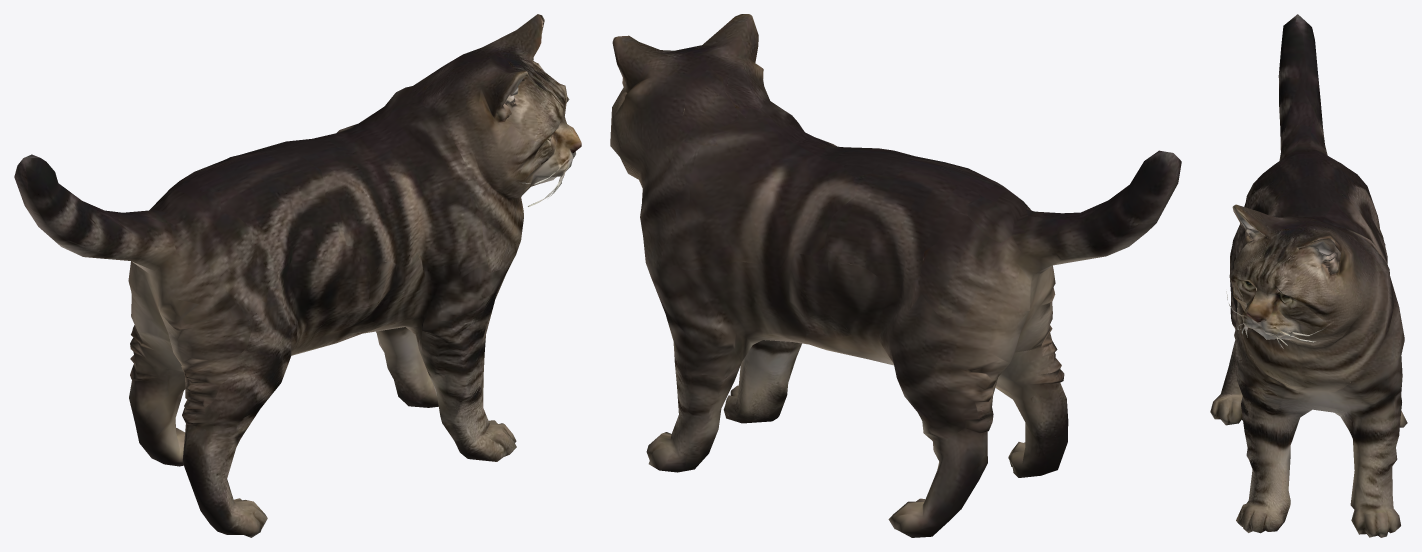
The model's file is FISHTOPH-lo.glb.
3 renders of one model, left to right at view 1: azimuth 30°, elevation 25°; view 2: azimuth 150°, elevation 25°; view 3: azimuth 270°, elevation 25°, orthographic. The views are drawn at different scales.
Visible parts, largest first — view 1: tripo_node_48946ffe-0ef7-4ac1-8589-52787ad00ab3; view 2: tripo_node_48946ffe-0ef7-4ac1-8589-52787ad00ab3; view 3: tripo_node_48946ffe-0ef7-4ac1-8589-52787ad00ab3.
Boxes of the visible parts, bbox=[...] form: tripo_node_48946ffe-0ef7-4ac1-8589-52787ad00ab3: bbox=[14, 14, 581, 537]; tripo_node_48946ffe-0ef7-4ac1-8589-52787ad00ab3: bbox=[610, 14, 1181, 537]; tripo_node_48946ffe-0ef7-4ac1-8589-52787ad00ab3: bbox=[1210, 14, 1407, 537].
Size of the model in its own units: 1.48 by 0.998 by 0.5399.
1 material, 1 textured.
